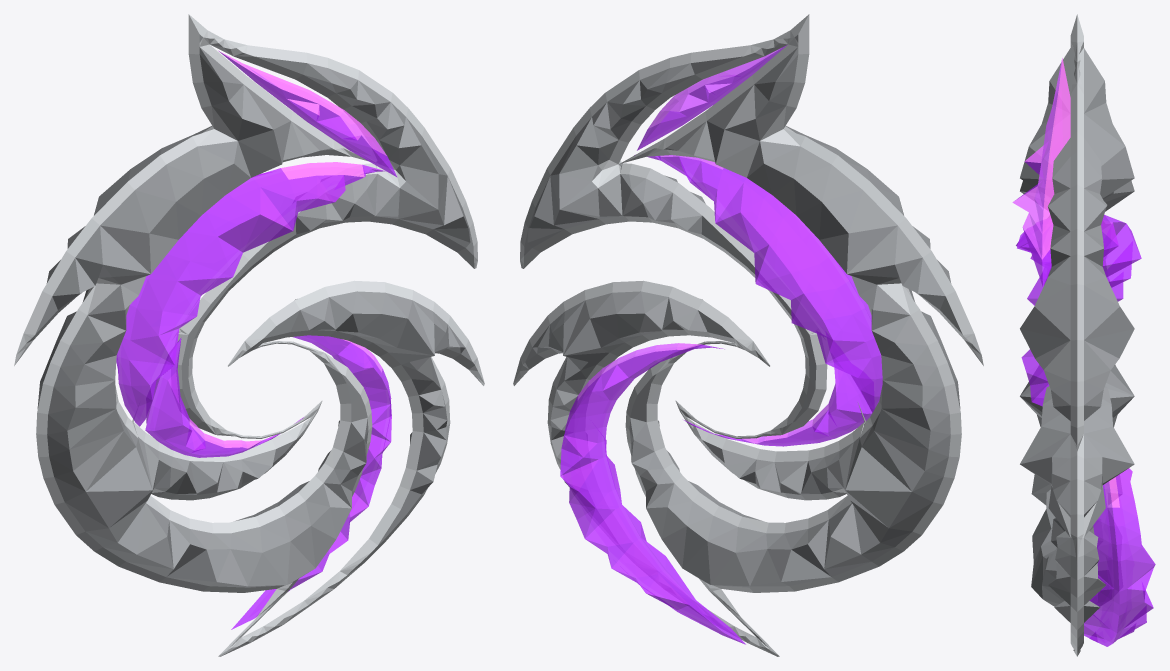
The model's file is CC_insignia.glb.
The picture shows the model from 3 angles, left to right: view 1: azimuth 30°, elevation 25°; view 2: azimuth 150°, elevation 25°; view 3: azimuth 270°, elevation 25°; orthographic projection. The views are drawn at different scales.
Parts seen in each view (by area): view 1: CC_frame_1_1, CC_crystal_2, CC_crystal_4, CC_crystal_3, CC_crystal_1; view 2: CC_frame_1_1, CC_crystal_2, CC_crystal_4, CC_crystal_3, CC_crystal_1; view 3: CC_frame_1_1, CC_crystal_4, CC_crystal_1, CC_crystal_2, CC_crystal_3.
Boxes of the visible parts, x1,y1,x2,y2 form: CC_frame_1_1: (14,14,484,656); CC_crystal_2: (116,162,385,426); CC_crystal_4: (231,335,391,629); CC_crystal_3: (145,337,303,457); CC_crystal_1: (218,50,397,177); CC_frame_1_1: (513,14,983,656); CC_crystal_2: (634,154,882,412); CC_crystal_4: (560,343,745,644); CC_crystal_3: (684,339,873,446); CC_crystal_1: (637,45,787,150); CC_frame_1_1: (1020,14,1134,656); CC_crystal_4: (1084,468,1155,646); CC_crystal_1: (1012,58,1070,286); CC_crystal_2: (1016,214,1141,305); CC_crystal_3: (1021,349,1049,406).
Size of the model in its own units: 1.51 by 2 by 0.4236.
